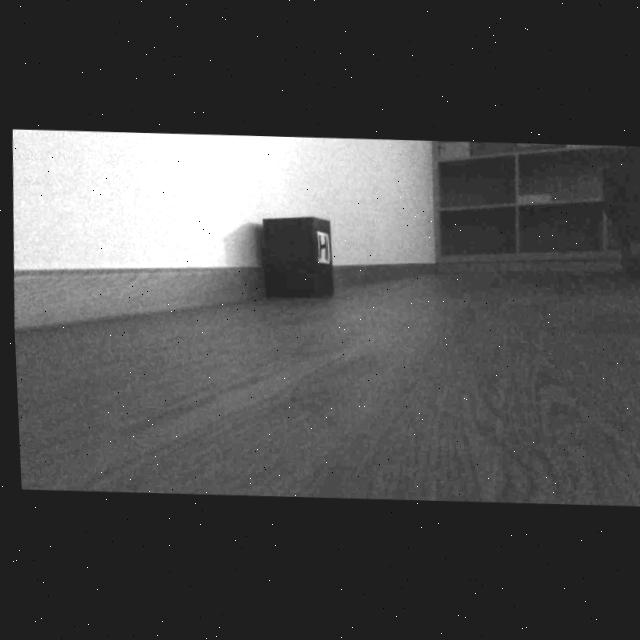H: (317, 235, 324, 260)
